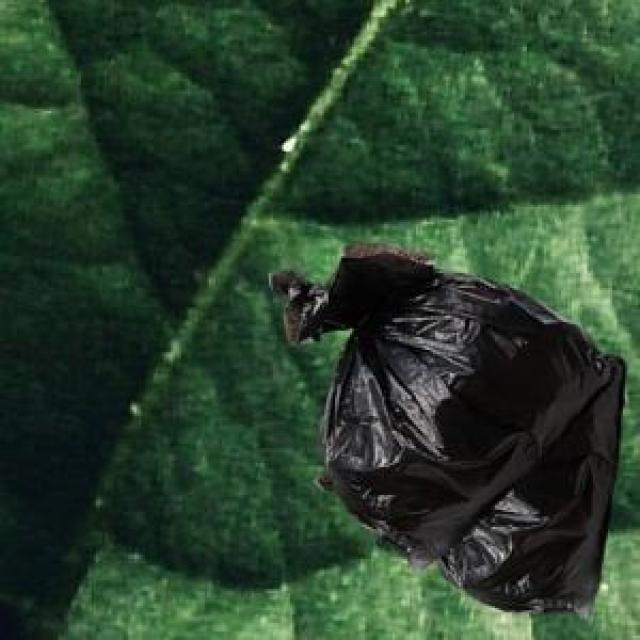Vinyl: (282, 246, 621, 612)
